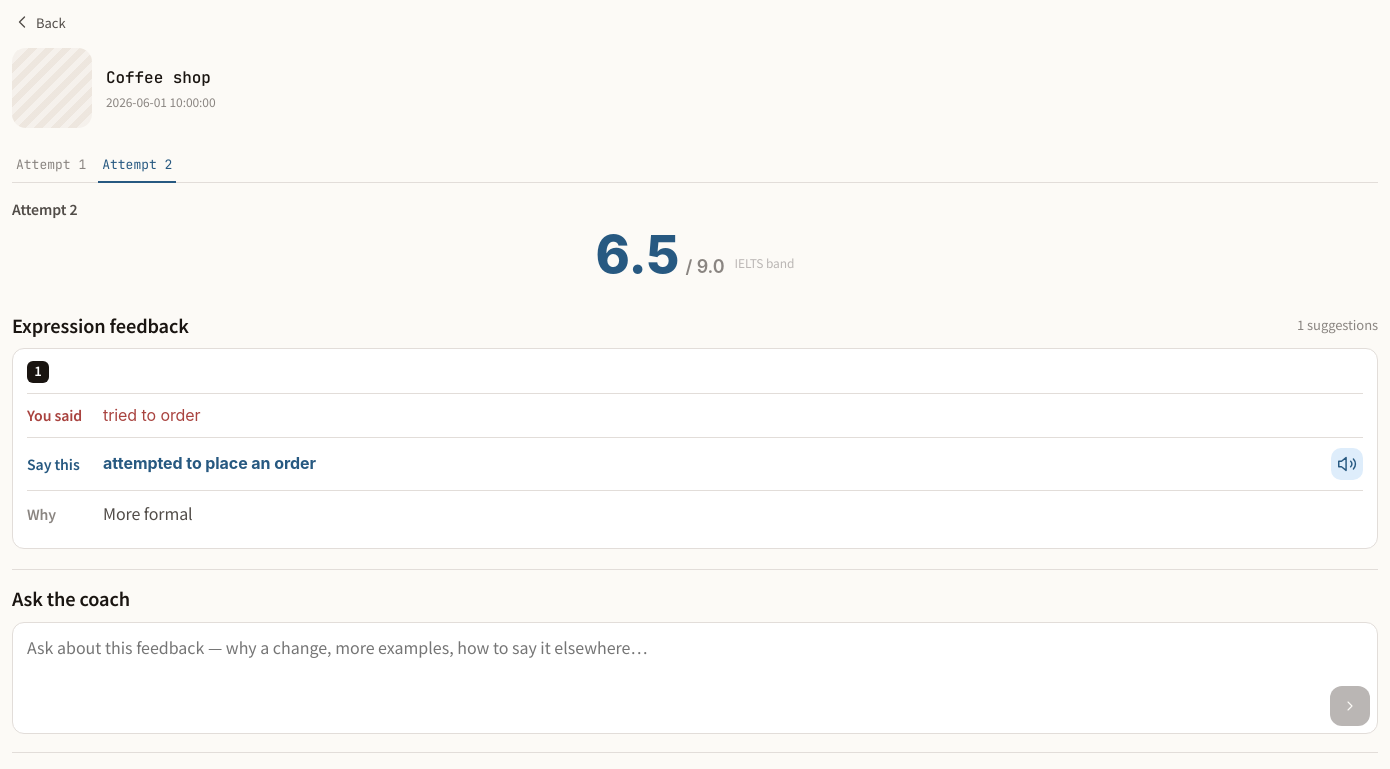
Test: SessionDetailPage › older attempt tab shows read-only chat without an input box
Check: the text box with placeholder "Ask about this feedback" is shown, box [12,622,1378,734]
// 切到旧轮 → coach 追问只读、无追问输入框（反馈条仍在，可对该轮反馈）
Click the button "Attempt 1" at (51, 166), box [12,148,90,183]
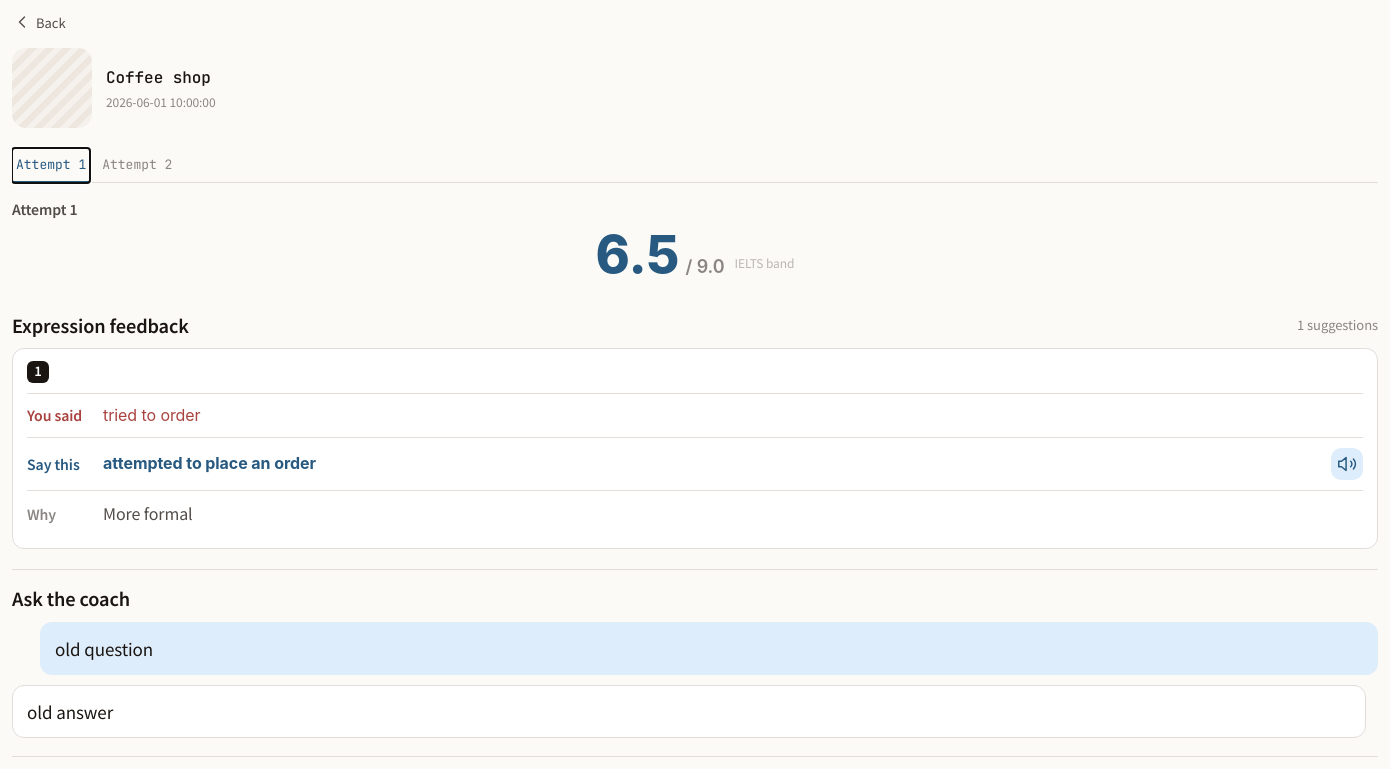
Check: the field with placeholder "Ask about this feedback" is not shown
Check: the text "old question" is shown, box [40,622,1378,675]
Check: the text "old answer" is shown, box [12,685,1366,738]
